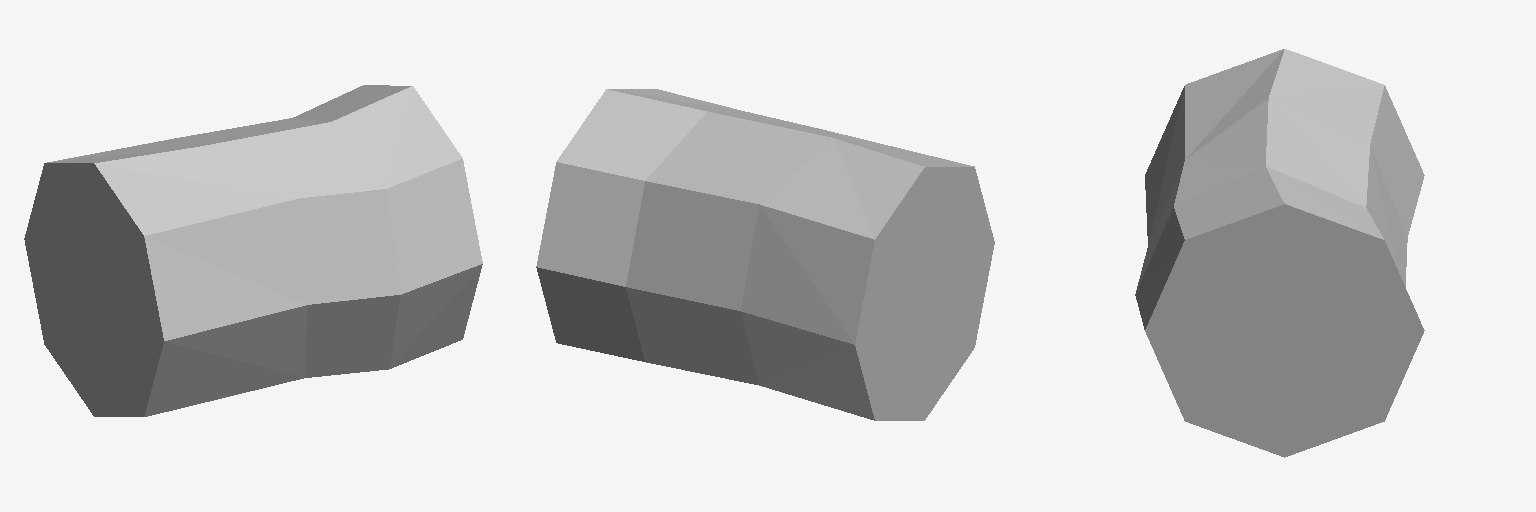
File: straight1.obj
3 views of the same model, side by side, from view 1: azimuth 30°, elevation 25°; view 2: azimuth 150°, elevation 25°; view 3: azimuth 270°, elevation 25° (orthographic).
Parts seen in each view (by area): view 1: Straight.001_Cube.008; view 2: Straight.001_Cube.008; view 3: Straight.001_Cube.008.
Boxes of the visible parts, x1,y1,x2,y2 form: Straight.001_Cube.008: [24, 85, 482, 416]; Straight.001_Cube.008: [536, 89, 994, 420]; Straight.001_Cube.008: [1135, 49, 1424, 457].
Size of the model in its own units: 2 by 1.56 by 1.57.